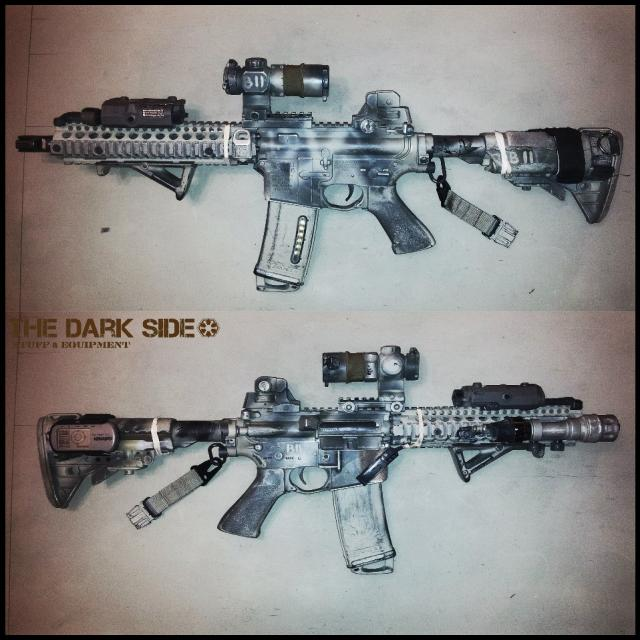firearm: (14, 61, 624, 292), (37, 345, 620, 576)
